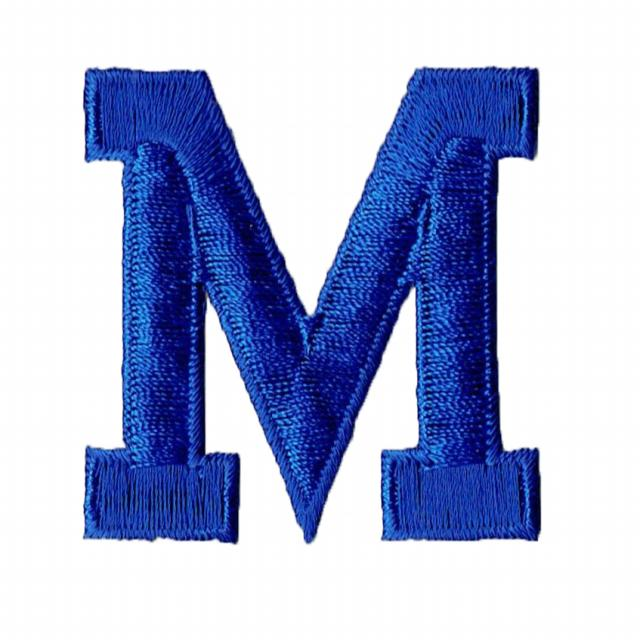M: (77, 19, 572, 590)
